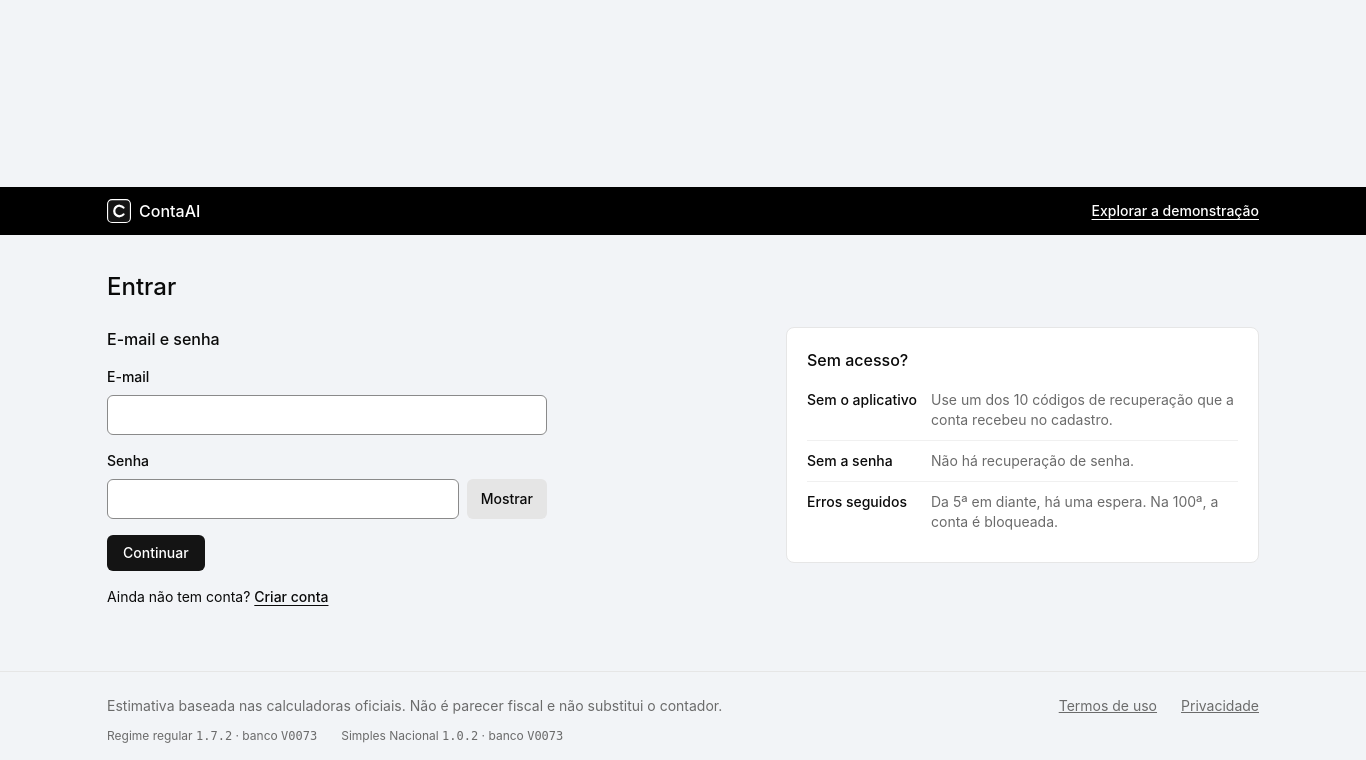
Test case: Entrar, passo 1: e-mail e senha › 401: a frase da API com o foco; a senha sai do campo e o e-mail fica
(page scrolled)
In the field labelled "E-mail": (327, 415) [107,395,547,435], type "pessoa@exemplo.test"
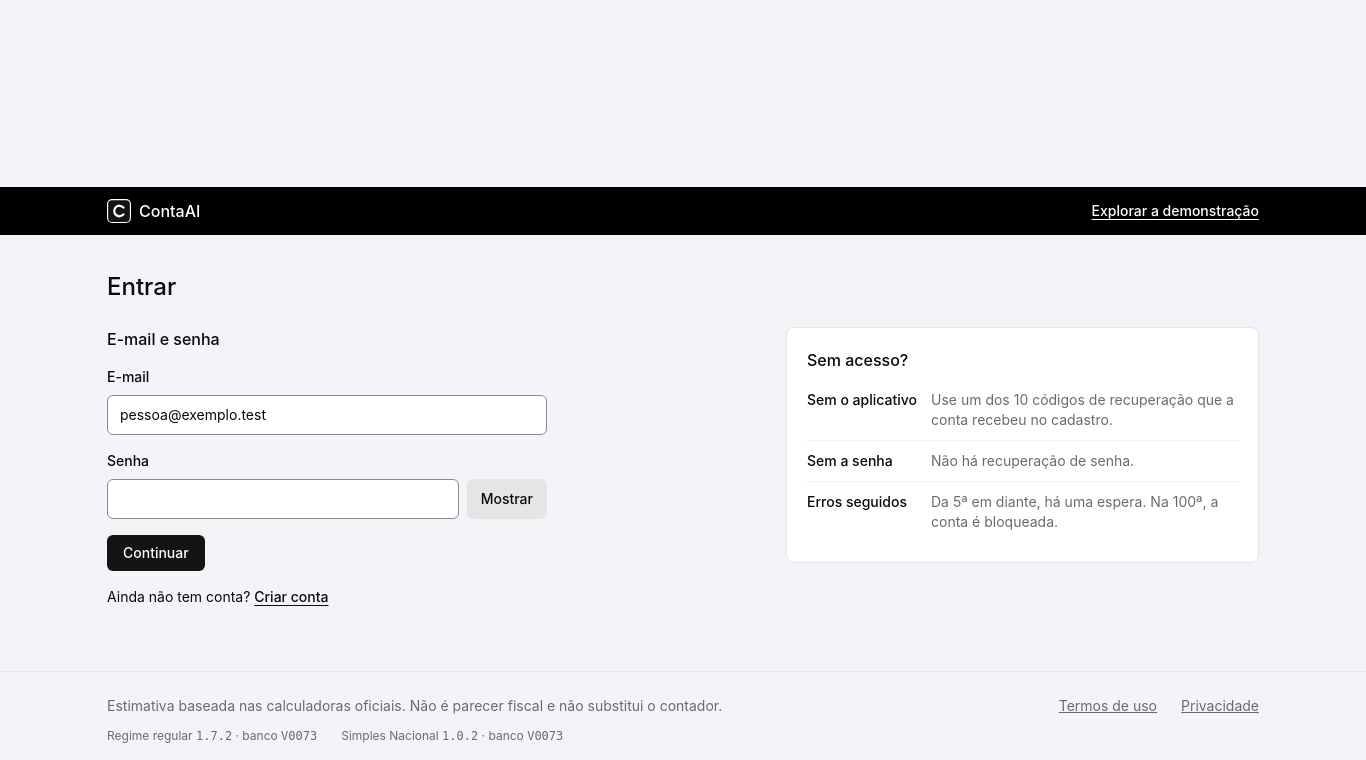
In the password field labelled "Senha": (283, 499) [107,479,459,519], type "a senha da pessoa"
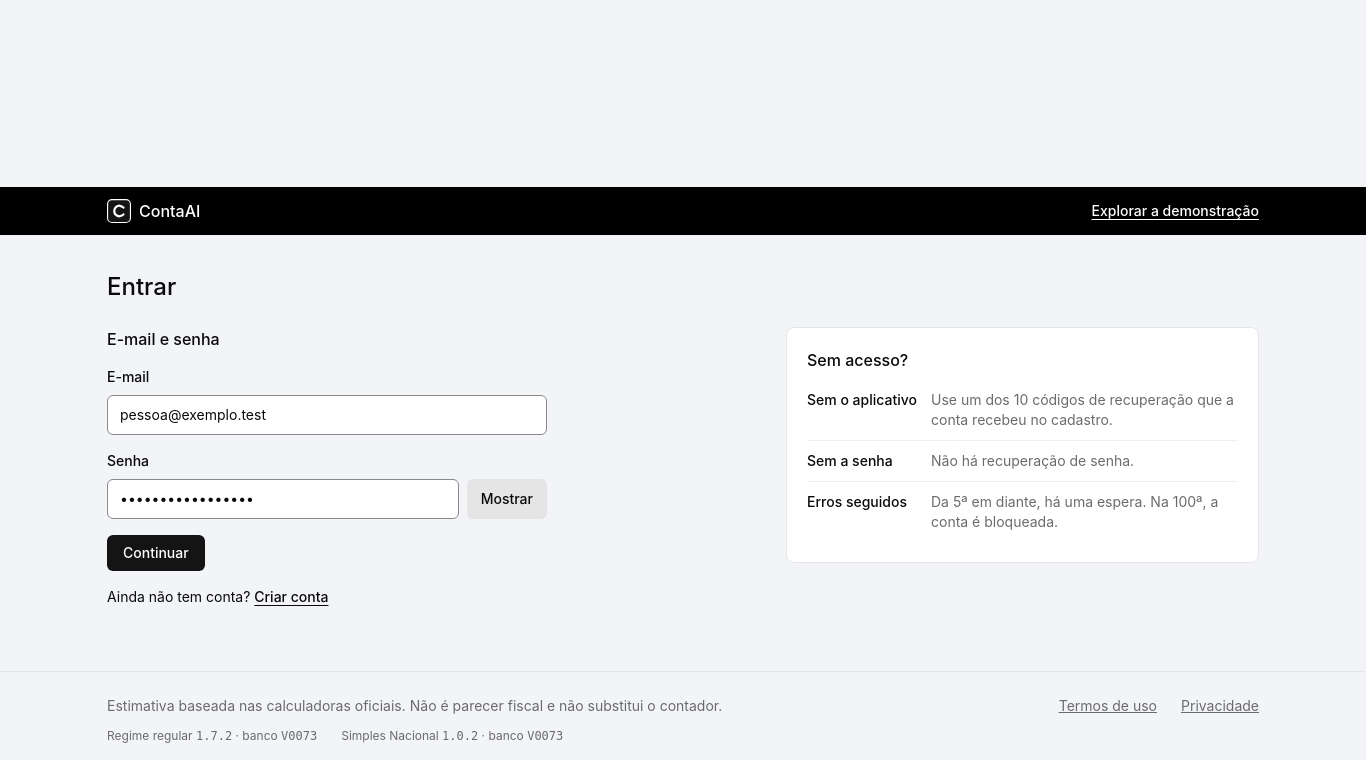
Click the button "Continuar": (156, 553) [107,535,205,571]
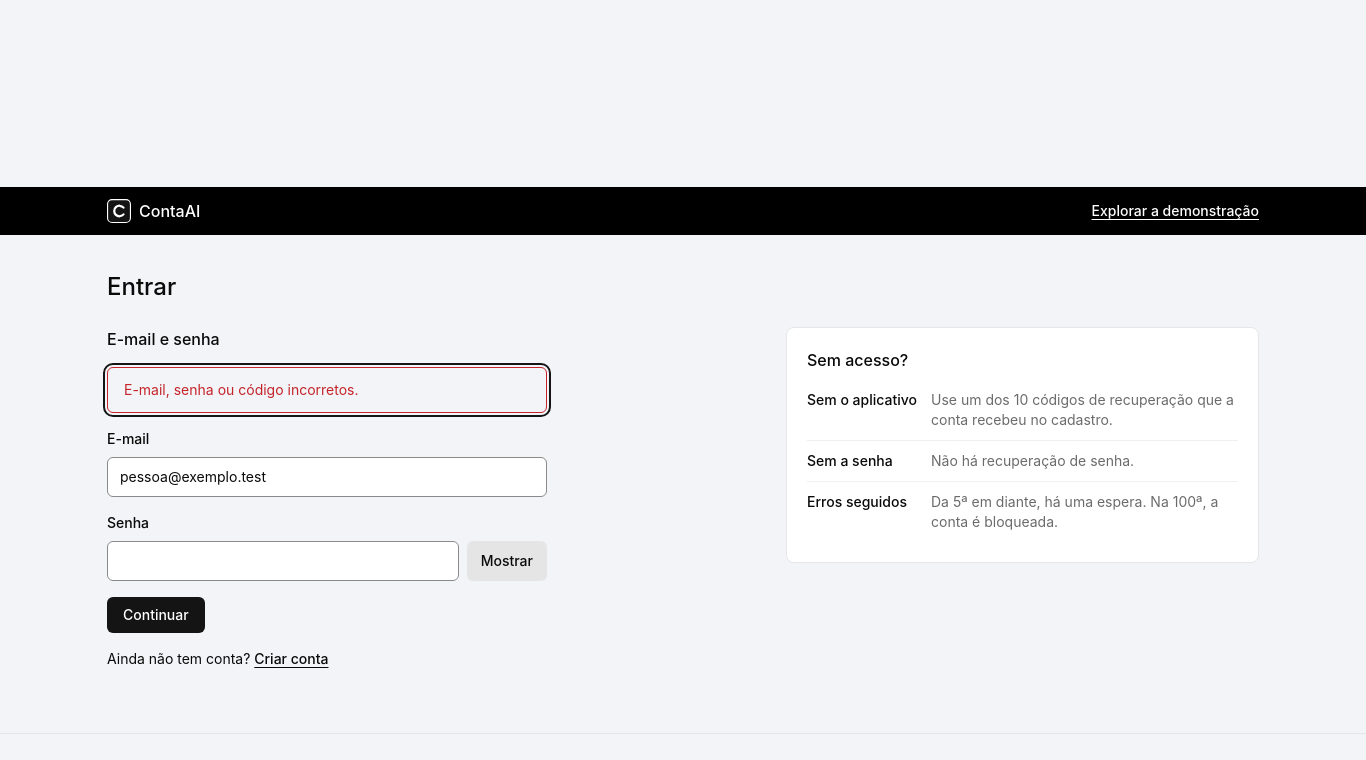
Expected: the message reads "E-mail, senha ou código incorretos.", [124,381,358,398]
Expected: the password field labelled "Senha" is empty, [107,541,459,581]
